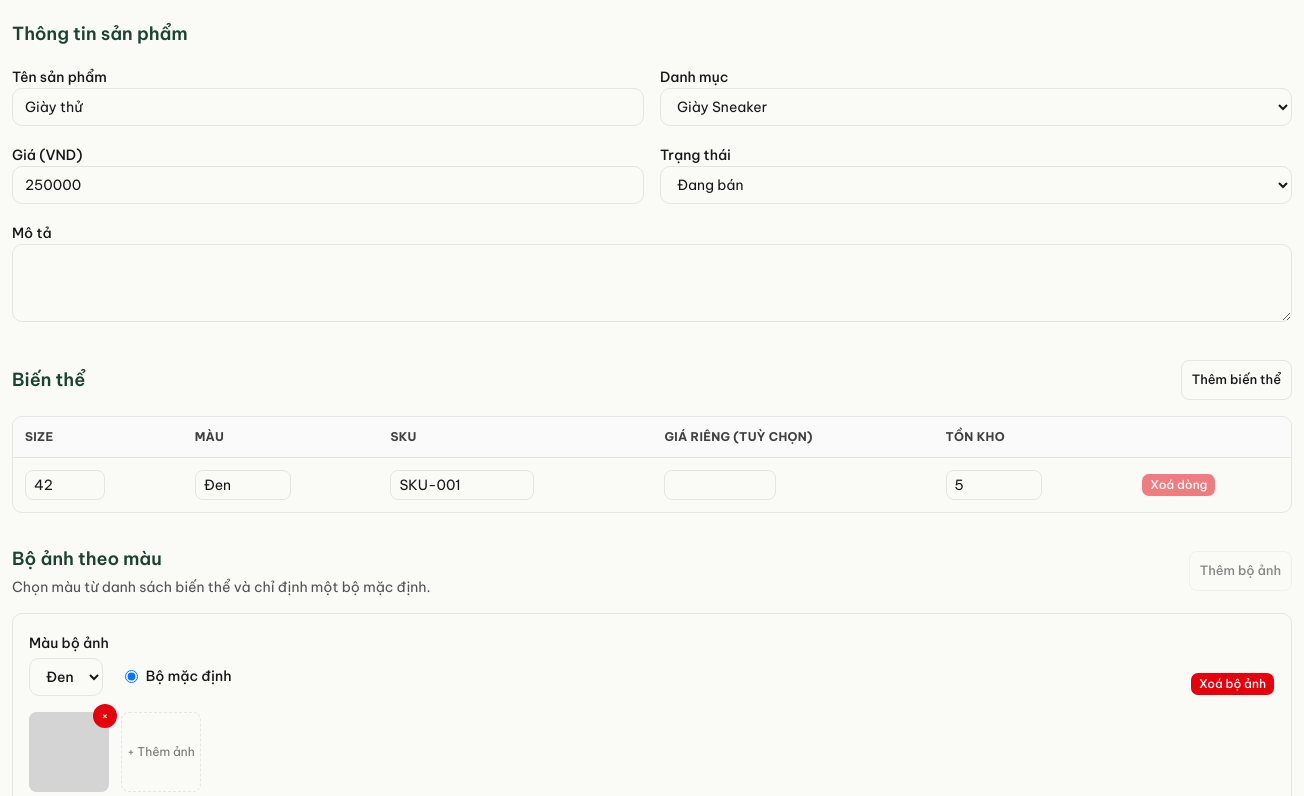
Scenario: ProductForm — biến thể inline › chặn lưu khi màu bộ ảnh không còn trong biến thể
The width and height of the screenshot is (1304, 796).
Replace the text in the field named "Màu" with "Xanh" at x=243, y=485, box [195,470,291,500]
(page scrolled)
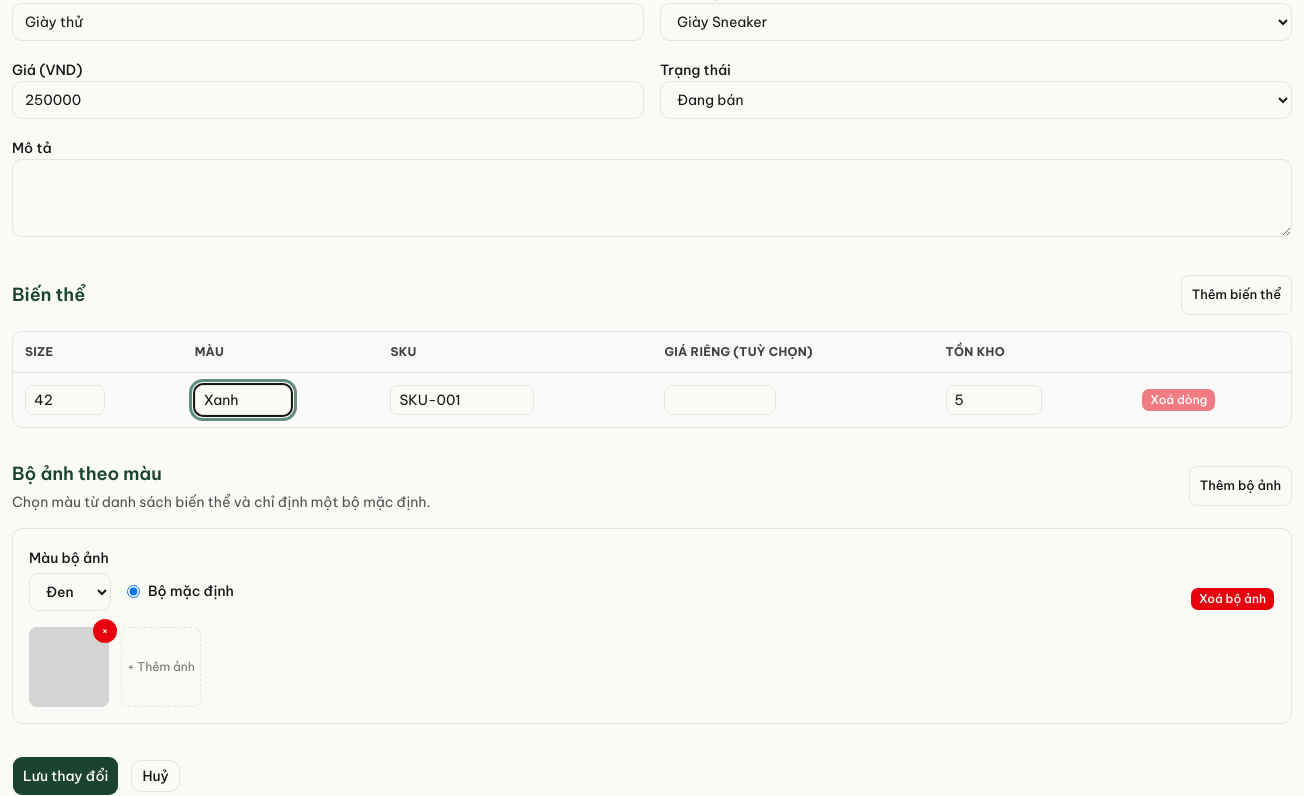
Click the button "Lưu thay đổi" at x=66, y=776, box [12,756,119,795]
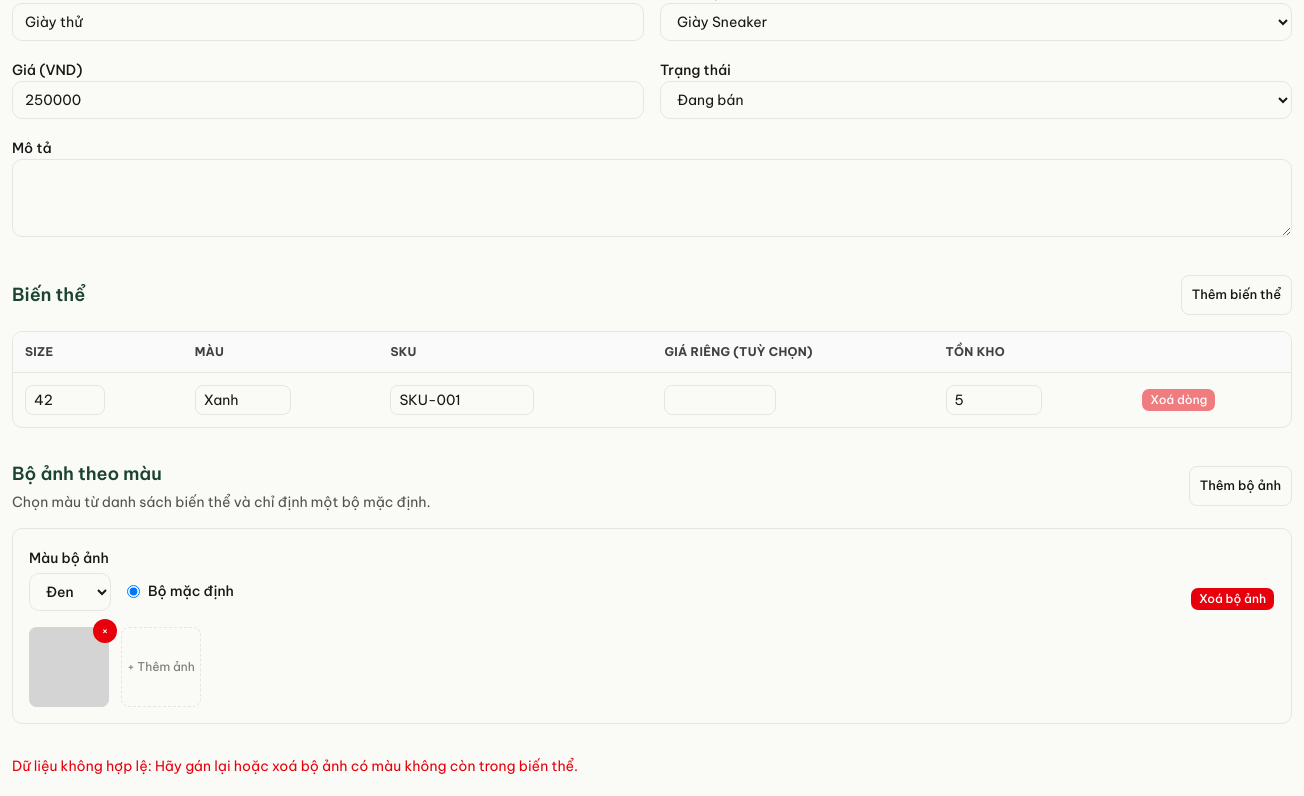
Expected: the message shows "Hãy gán lại hoặc xoá bộ ảnh có màu không còn trong biến thể.", [155,757,578,775]
